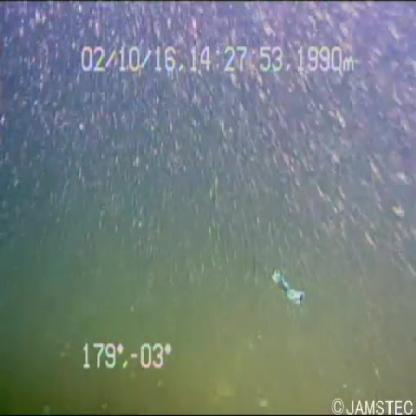Rác: (262, 253, 318, 312)
